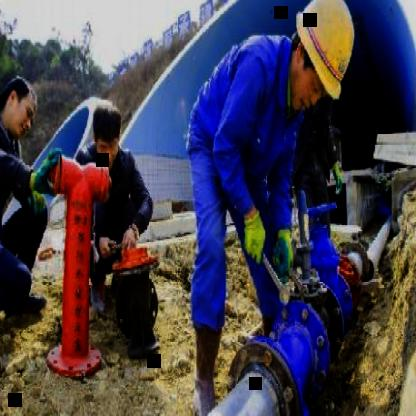head: (0, 74, 46, 145), (90, 98, 127, 170)
helmet: (288, 0, 369, 122)
